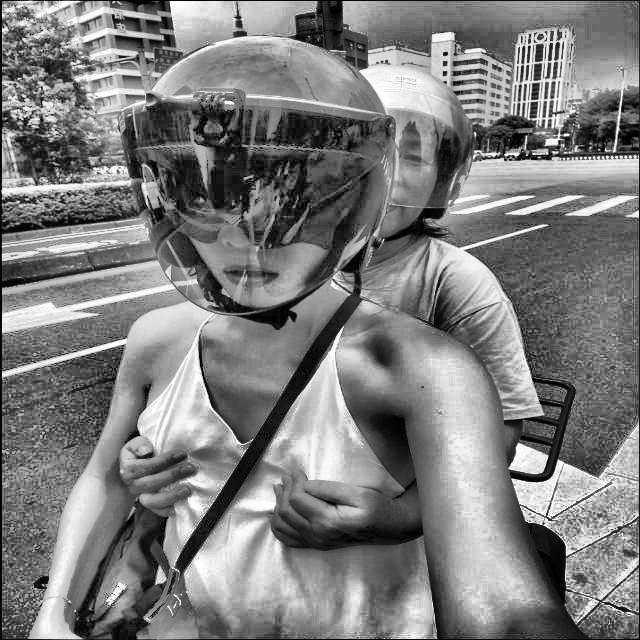Helmet: (110, 30, 404, 337)
